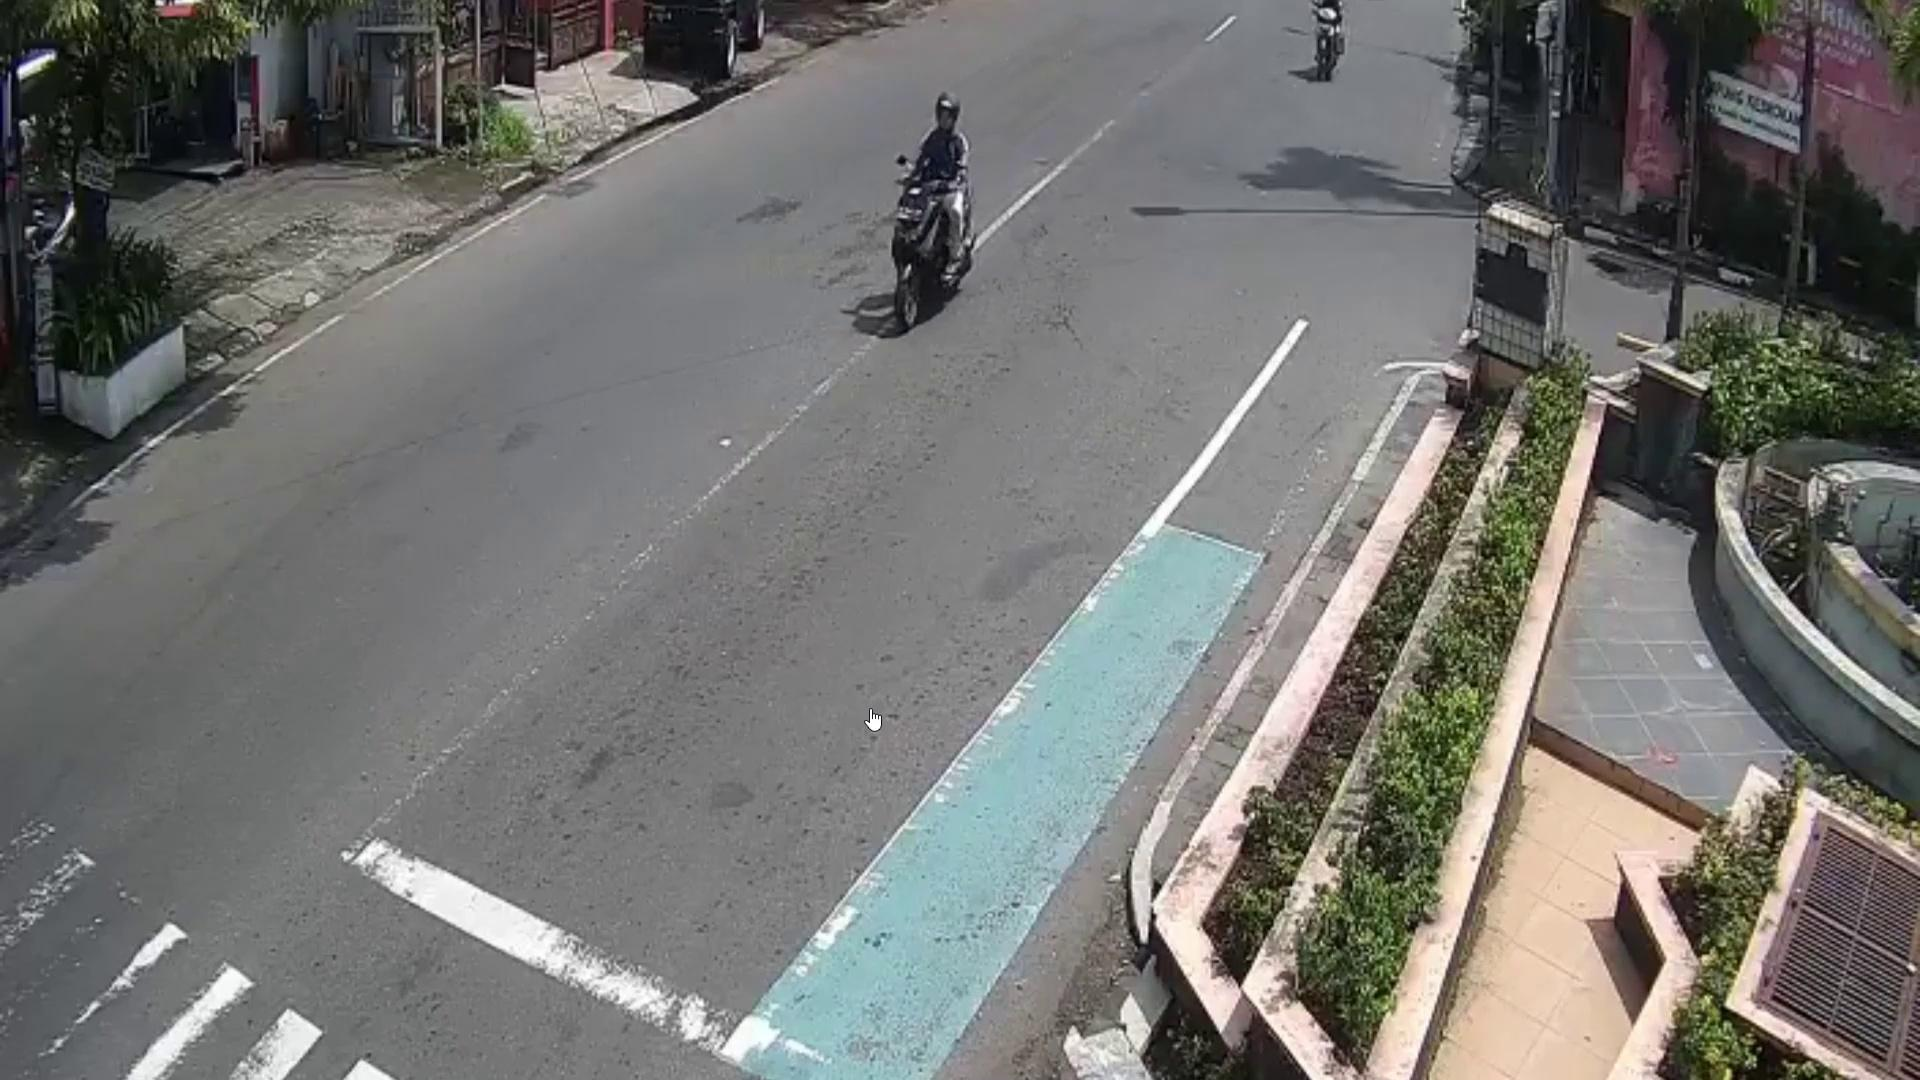motorbike: (890, 178, 973, 328)
